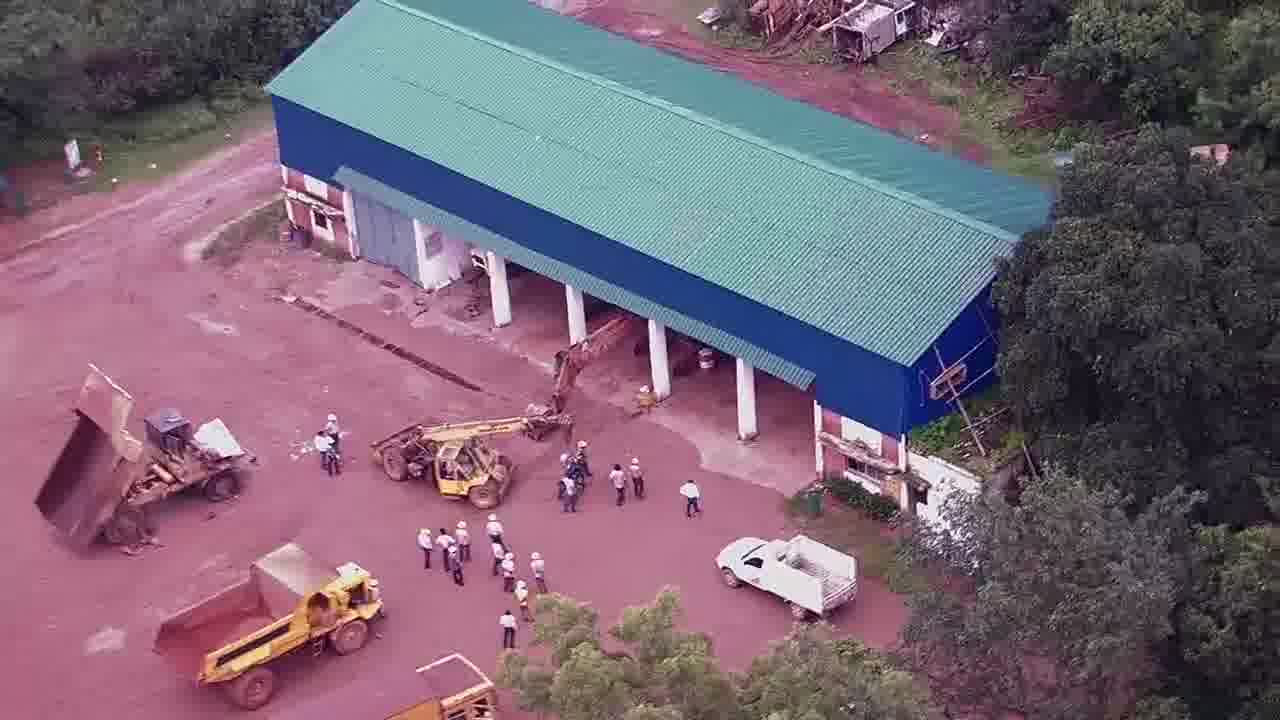HMV: (38, 364, 237, 553), (154, 540, 380, 705), (372, 398, 538, 507)
LMV: (721, 517, 853, 620)
Person: (514, 574, 537, 621), (499, 607, 518, 660), (532, 550, 549, 606), (415, 524, 434, 574), (487, 512, 508, 556), (608, 464, 627, 512), (488, 534, 508, 575), (576, 438, 594, 483), (455, 520, 473, 563), (684, 477, 701, 522), (563, 472, 579, 519), (436, 527, 452, 574), (447, 546, 466, 584), (324, 434, 341, 474), (630, 460, 643, 507), (501, 550, 515, 593), (326, 413, 341, 452), (316, 429, 328, 473)
